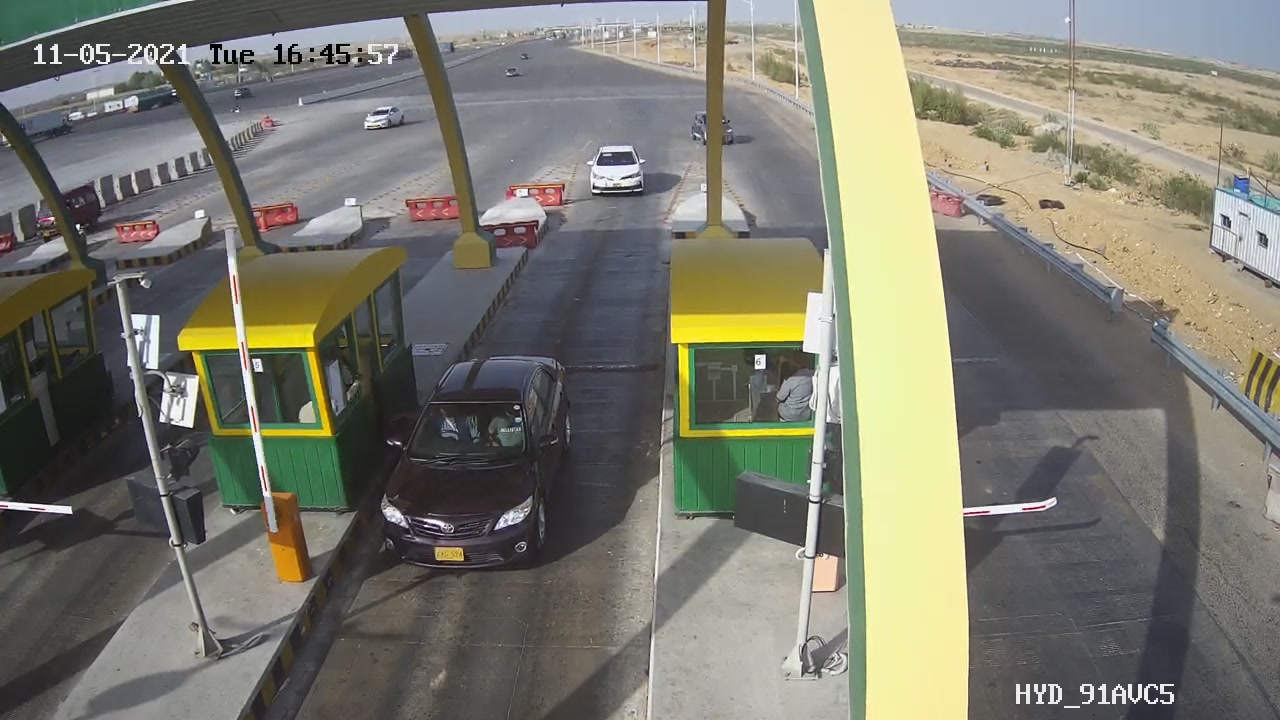F1: (344, 336, 594, 590)
